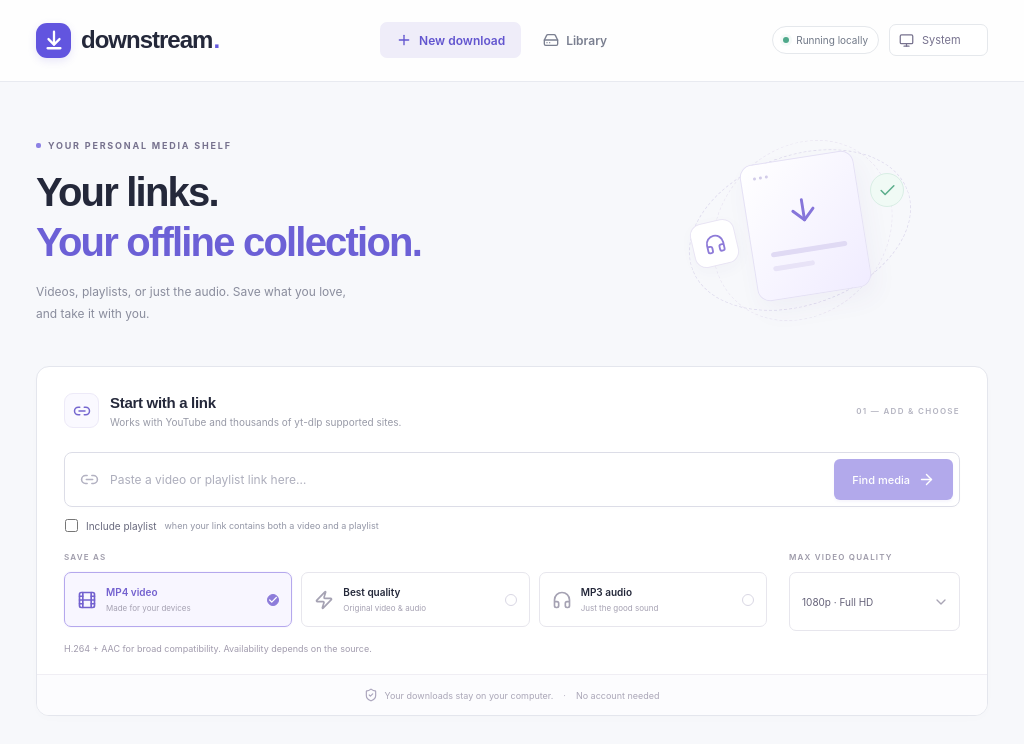
Test: audio preset fixes the bitrate and select-all can clear selection
Click the radio button labelled "MP3 audio Just the good sound".
click(653, 600)  # box [539,572,767,627]
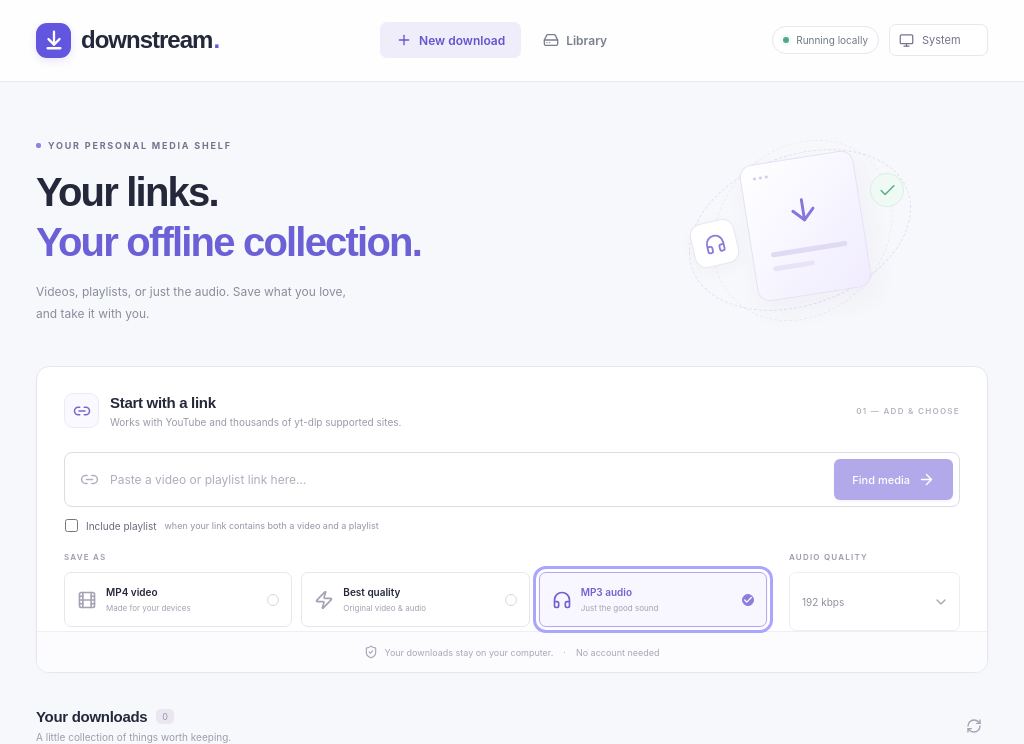
Expected: the dropdown labelled "AUDIO QUALITY" is disabled, [789,572,960,631]
Type "https://example.com/list" into the field named "Video or playlist URL".
click(467, 480); type("https://example.com/list")  # box [110,462,823,497]
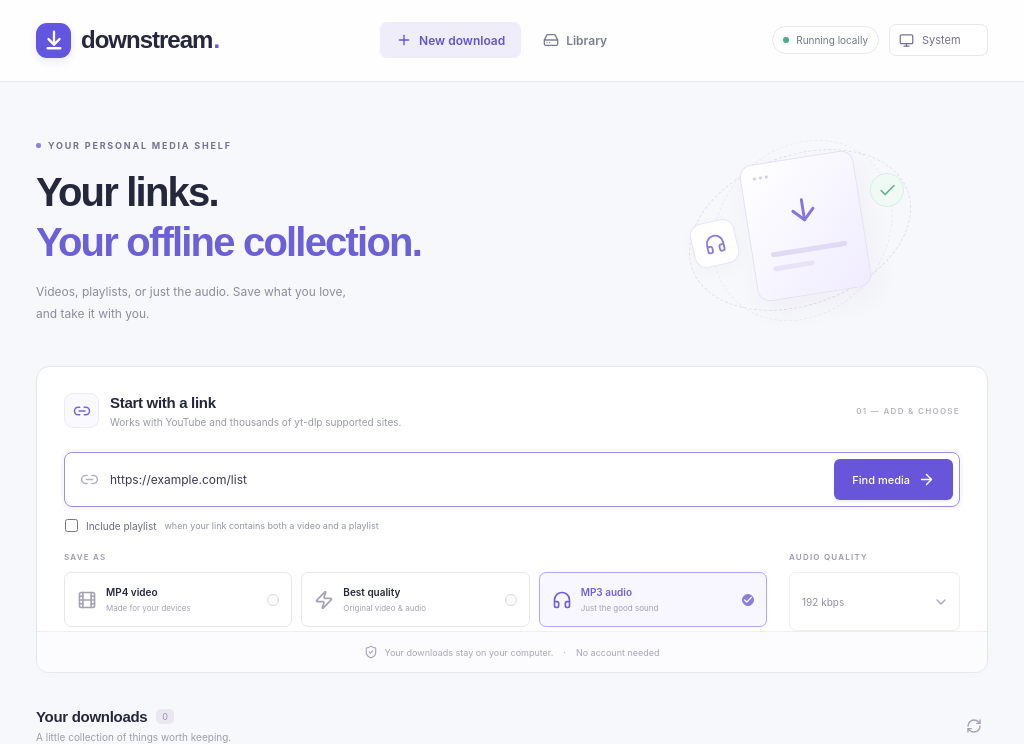
Click the button "Find media".
click(894, 480)  # box [834,459,953,500]
(page scrolled)
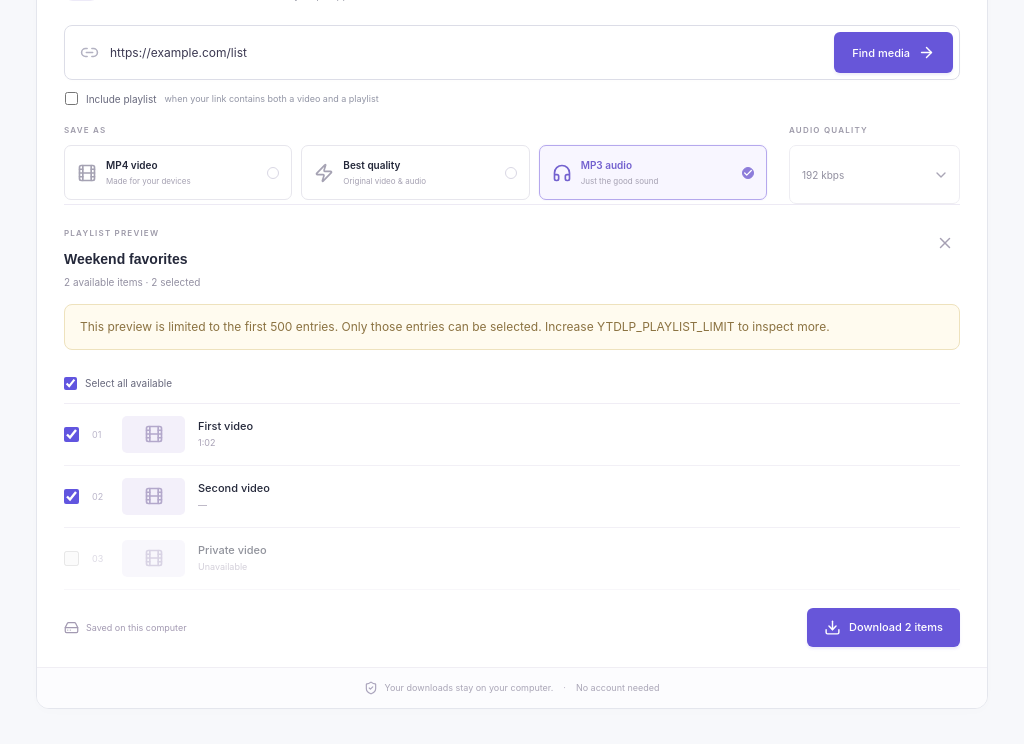
Expected: the heading "Weekend favorites" is shown, [64,248,200,270]
Click the checkbox labelled "Select all available".
click(70, 383)  # box [64,377,77,390]
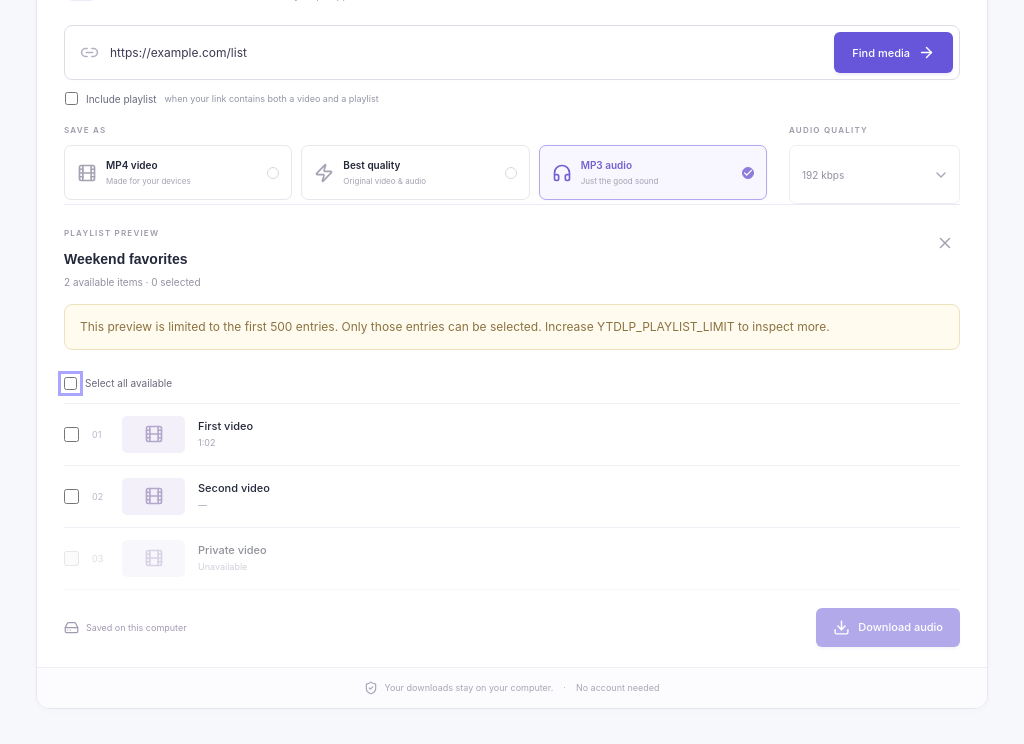
Expected: the button "Download audio" is disabled, [816,608,960,647]
